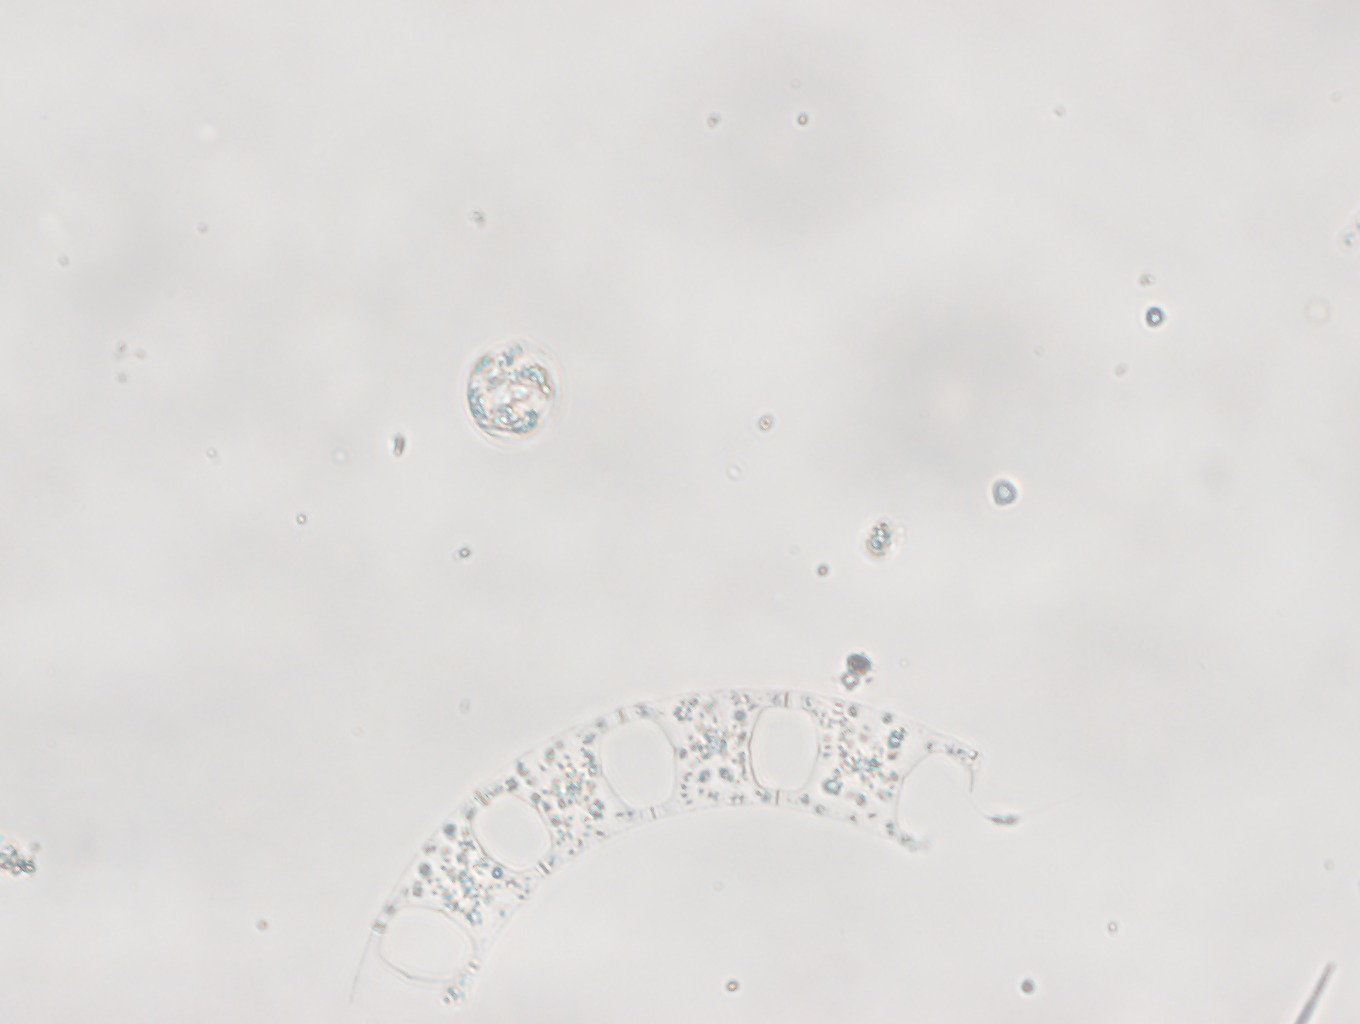eucampia: (344, 689, 988, 1016)
